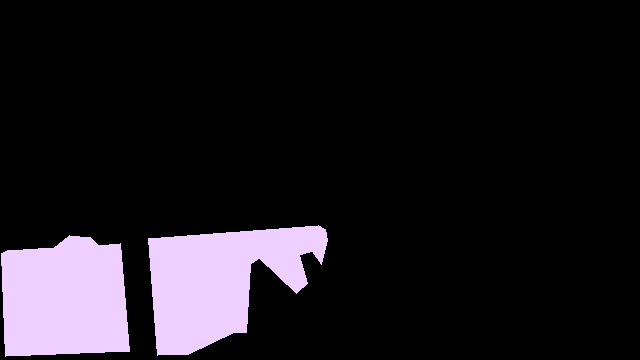Train: (1, 225, 327, 356)
